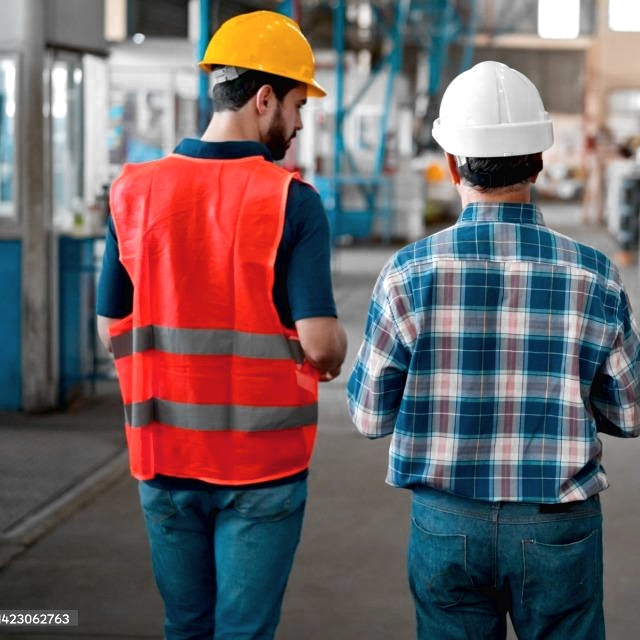Con_Casco: (432, 58, 559, 210), (201, 12, 328, 149)
Con_Chaleco: (105, 150, 324, 482)
Sin_Chaleco: (387, 220, 620, 503)
